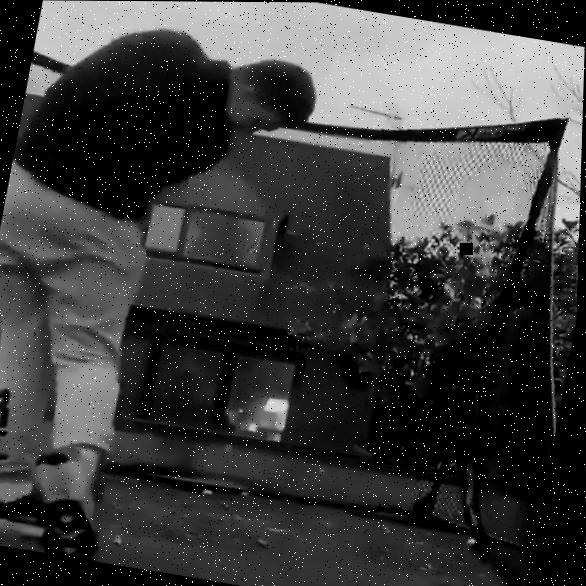GolfBall: (469, 536, 480, 544), (206, 488, 216, 495)
